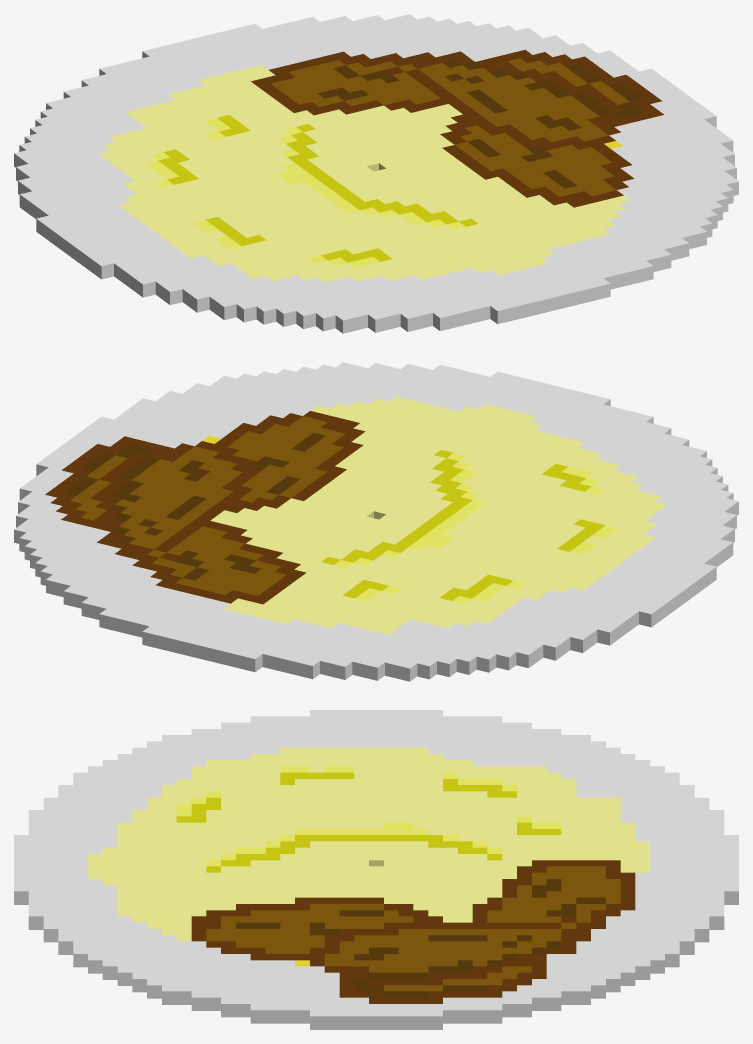
The model's file is brat vot eda.obj.
3 renders of one model, top to bottom at view 1: azimuth 30°, elevation 25°; view 2: azimuth 150°, elevation 25°; view 3: azimuth 270°, elevation 25°, orthographic. The views are drawn at different scales.
Parts seen in each view (by area): view 1: brat vot eda; view 2: brat vot eda; view 3: brat vot eda.
Part boxes in pixels (x1=…): brat vot eda: x1=14, y1=14, x2=738, y2=333; brat vot eda: x1=14, y1=362, x2=738, y2=681; brat vot eda: x1=14, y1=710, x2=738, y2=1029.
Size of the model in its own units: 49 by 1 by 49.
1 material, 1 textured.
